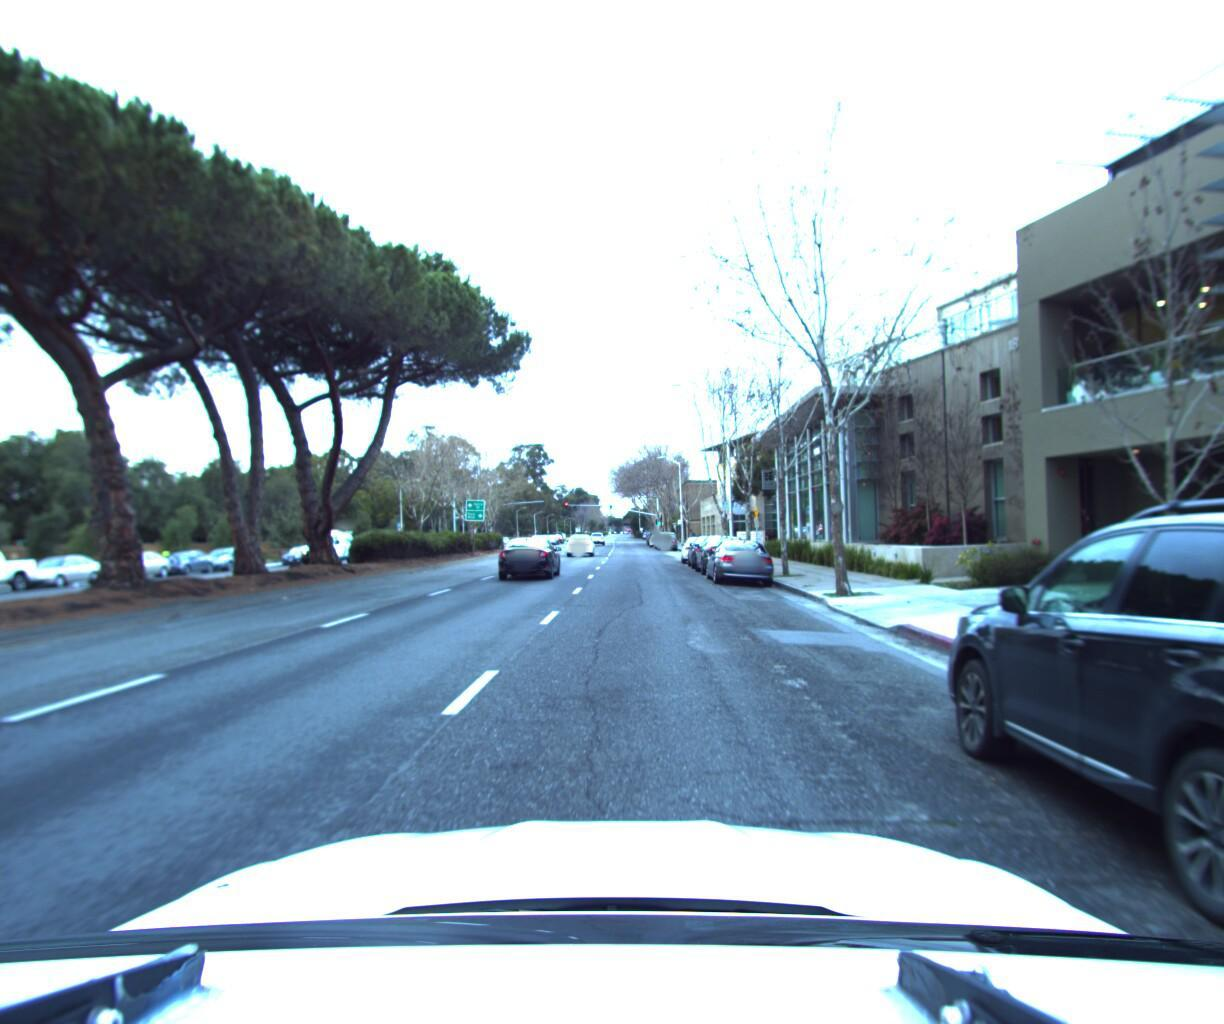car: (915, 460, 1224, 1024), (703, 534, 779, 585), (14, 554, 114, 591), (494, 531, 561, 579), (695, 530, 757, 576), (0, 546, 50, 603), (97, 550, 178, 585), (294, 530, 357, 568), (154, 548, 222, 577), (196, 547, 257, 573), (680, 531, 720, 564), (565, 530, 595, 554), (656, 529, 679, 548)
